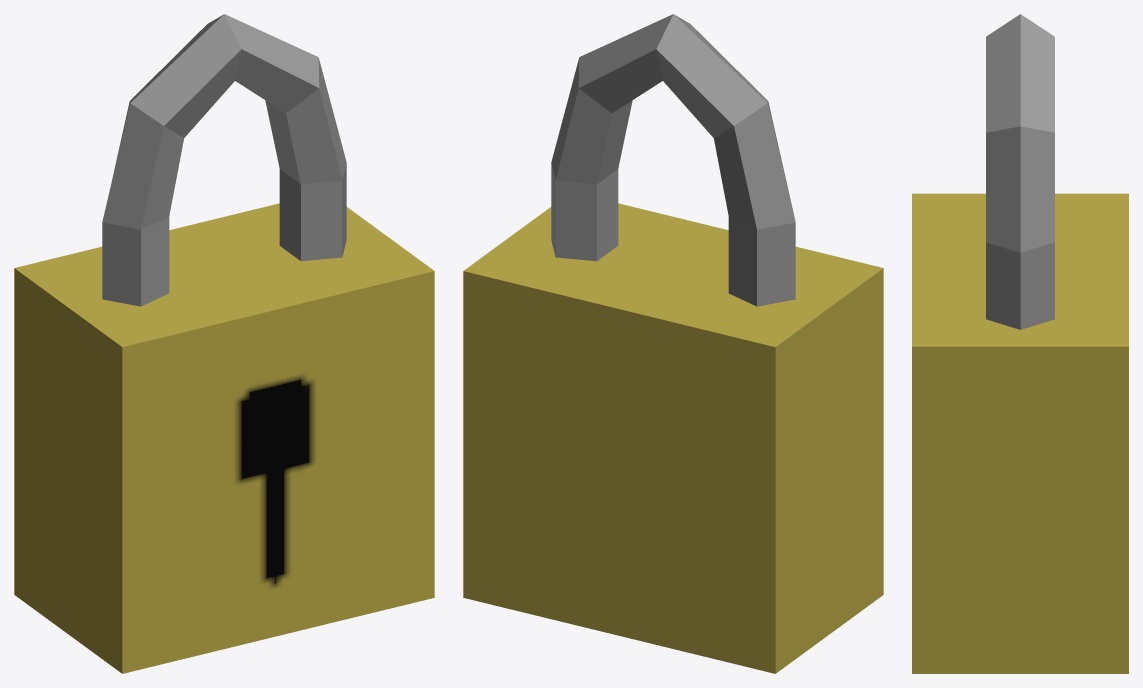
The model's file is Padlock.fbx.
3 views of the same model, side by side, from view 1: azimuth 30°, elevation 25°; view 2: azimuth 150°, elevation 25°; view 3: azimuth 270°, elevation 25° (orthographic).
Parts seen in each view (by area): view 1: Padlock; view 2: Padlock; view 3: Padlock.
Part boxes in pixels (x1,y1,x2,y2): Padlock: (14,14,434,673); Padlock: (463,14,883,673); Padlock: (912,14,1128,673).
Bounding box in the file's own units: 30 × 53.46 × 18.
1 material, 1 textured.
